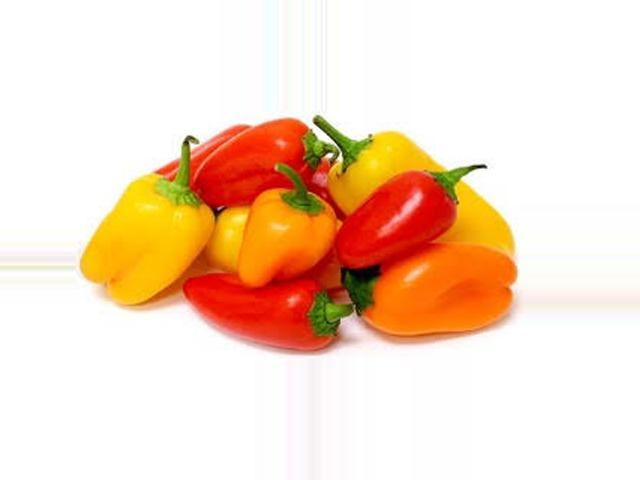bell_pepper: (328, 119, 510, 251)
